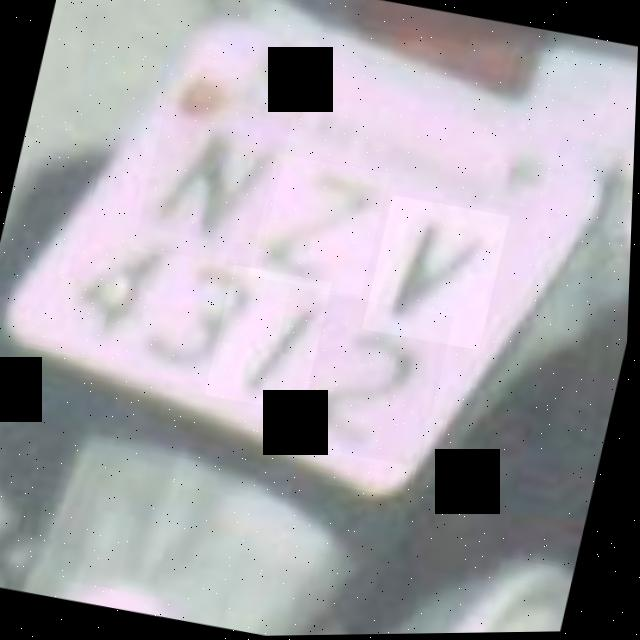1: (207, 265, 335, 415)
2: (258, 287, 458, 471)
4: (52, 196, 187, 351)
B: (107, 226, 277, 396)
N: (134, 96, 294, 271), (364, 195, 512, 353)
Z: (250, 153, 391, 298)
